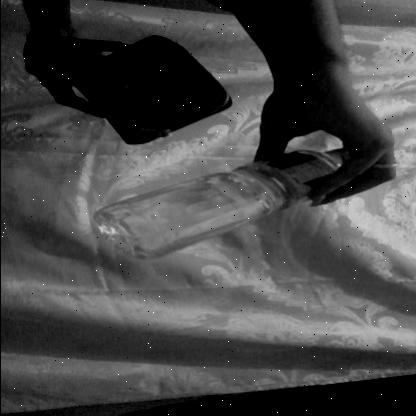Plastic Bottle: (86, 129, 394, 268)
